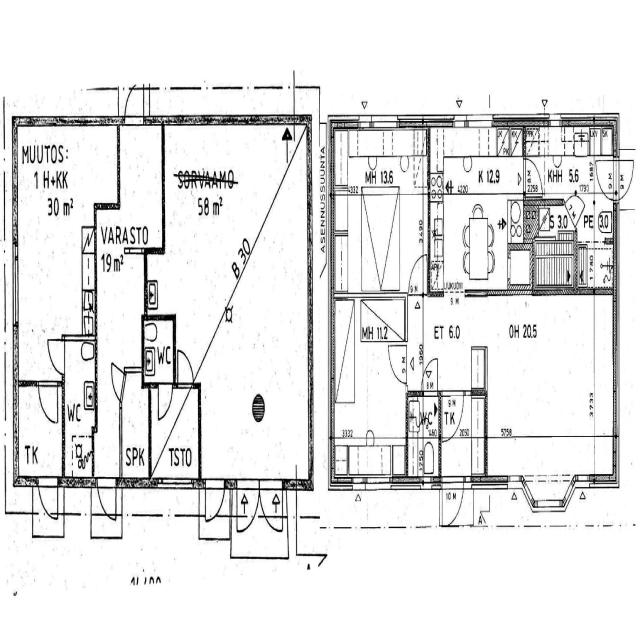door: (441, 474, 465, 527), (235, 482, 260, 532), (440, 390, 464, 441), (260, 480, 283, 530), (38, 380, 62, 426), (37, 476, 60, 522), (614, 154, 636, 202), (204, 477, 226, 524), (96, 476, 118, 523), (123, 84, 145, 125), (387, 339, 407, 384), (407, 253, 427, 296), (46, 336, 66, 378), (176, 347, 196, 387), (524, 155, 543, 196), (156, 380, 174, 423), (420, 356, 440, 393)
window: (534, 491, 564, 519), (366, 474, 392, 493), (372, 112, 398, 130), (562, 482, 576, 513), (468, 114, 493, 129), (574, 470, 591, 490), (352, 474, 368, 494), (421, 475, 434, 492)
zone: (181, 119, 311, 478), (486, 295, 616, 472), (15, 119, 109, 342), (334, 130, 429, 296), (432, 123, 524, 290), (332, 310, 408, 484), (525, 126, 614, 230), (433, 123, 524, 199), (117, 120, 163, 250), (150, 385, 199, 485), (15, 383, 64, 481), (64, 340, 96, 483), (536, 189, 612, 248), (119, 371, 150, 484), (535, 208, 574, 291), (407, 394, 440, 477), (142, 318, 174, 384), (577, 243, 614, 293)
